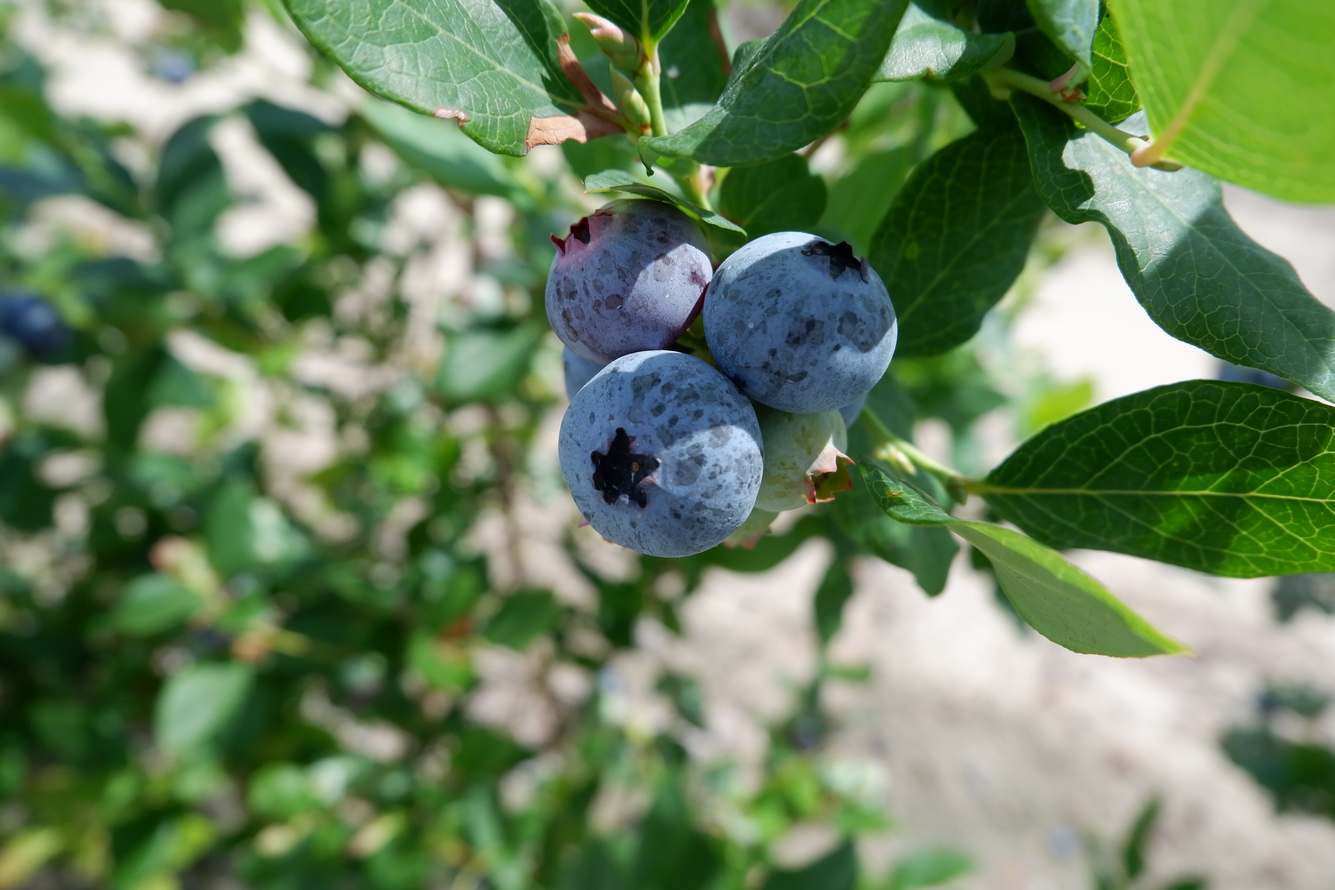Immature: (757, 407, 849, 509), (723, 507, 772, 547)
Mature: (564, 354, 763, 553), (707, 237, 895, 410), (549, 201, 712, 357), (564, 347, 601, 400)
